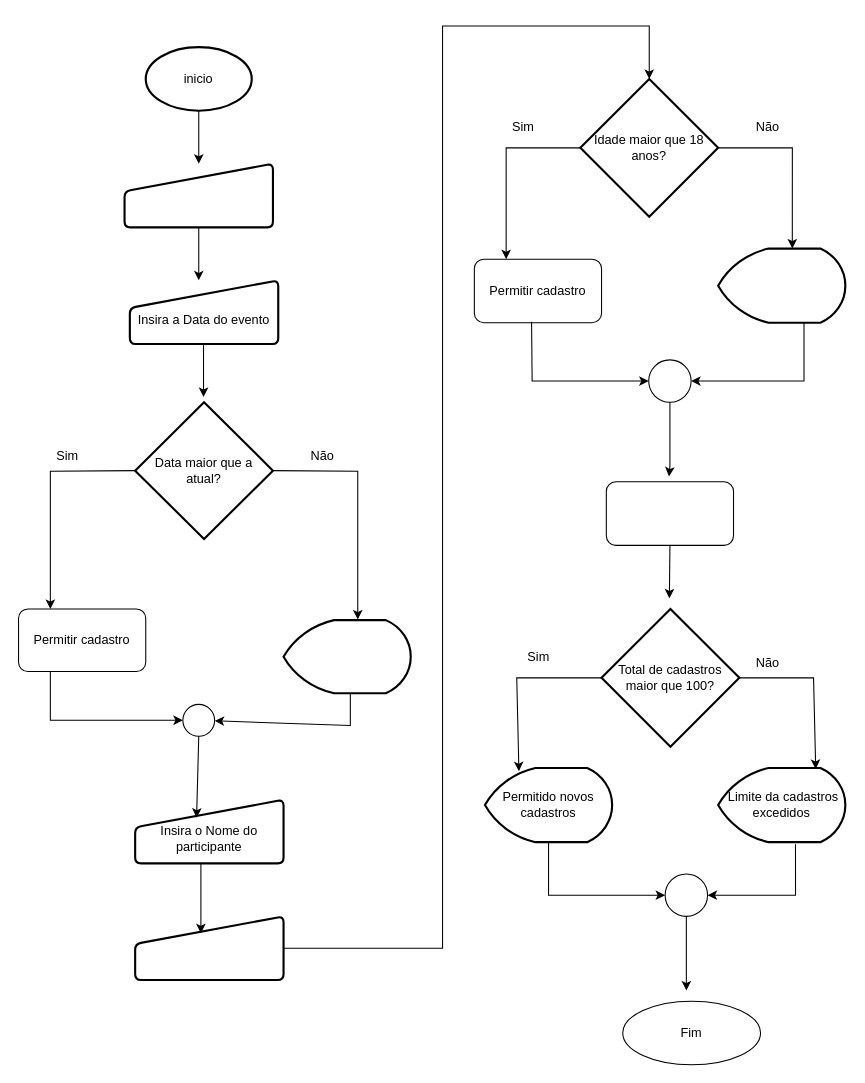
This 865x1083 diagram has some shape labels left out. The box of each missing label's shape, as (x1, y1, x2, y2) in pixels:
Cadastro não permitido: Idade inválida!: (717, 247, 846, 323)
Contar total de cadastros: (605, 481, 734, 545)
Data inválida: (282, 619, 411, 694)
Insira Idade do participante: (134, 915, 284, 980)
Insira o Nome do evento: (123, 162, 273, 228)
